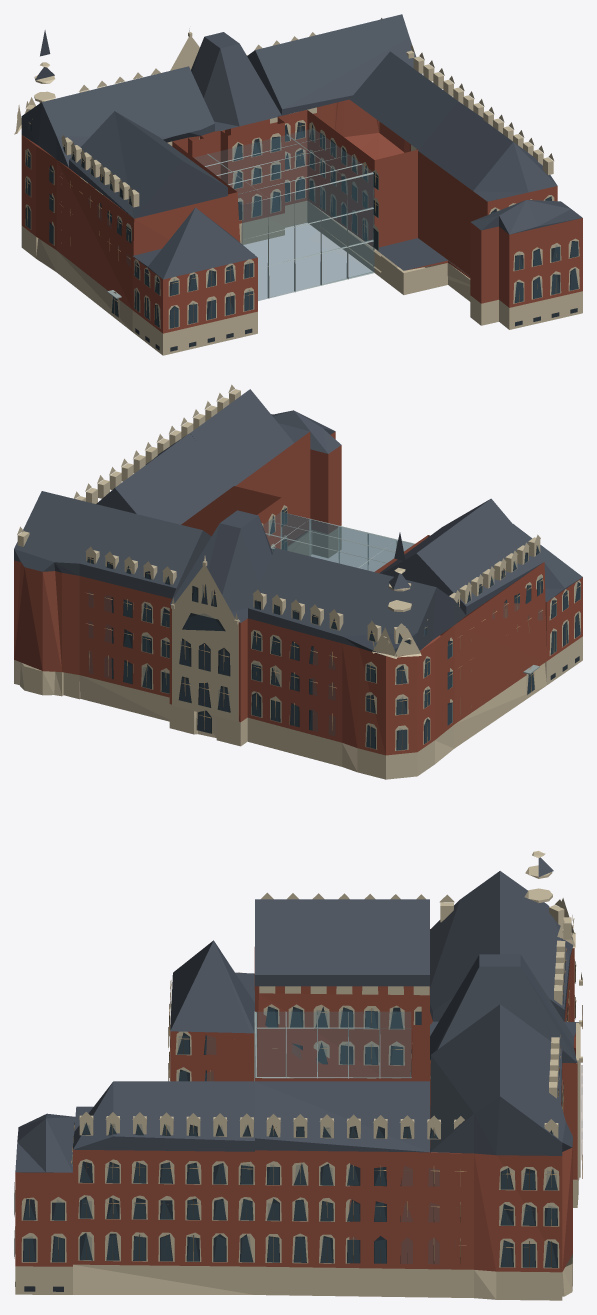
Rendered from conservatorium.lod1.glb.
3 renders of one model, top to bottom at view 1: azimuth 30°, elevation 25°; view 2: azimuth 150°, elevation 25°; view 3: azimuth 270°, elevation 25°, orthographic. The views are drawn at different scales.
Parts seen in each view (by area): view 1: conservatorium; view 2: conservatorium; view 3: conservatorium.
Boxes of the visible parts, x1,y1,x2,y2 form: conservatorium: (14,14,582,355); conservatorium: (14,384,582,779); conservatorium: (14,850,582,1300).
Size of the model in its own units: 67.13 by 37.2 by 69.16.
